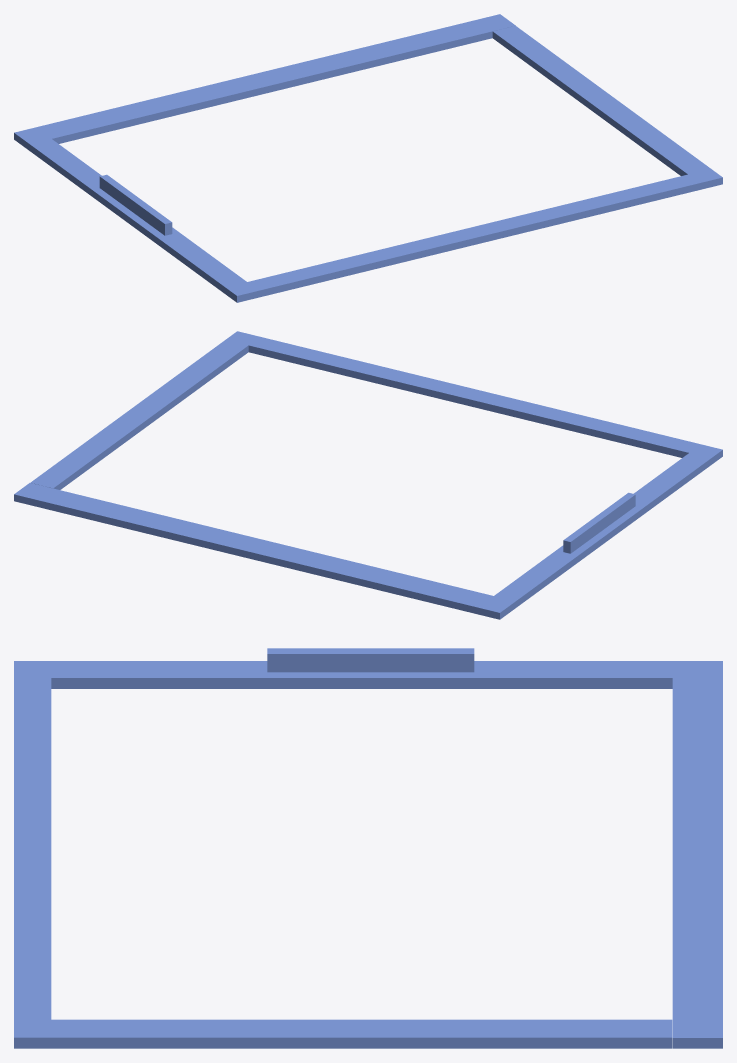
Rendered from SliderFreezerDoor.fbx.
The picture shows the model from 3 angles, top to bottom: view 1: azimuth 30°, elevation 25°; view 2: azimuth 150°, elevation 25°; view 3: azimuth 270°, elevation 25°; orthographic projection. The views are drawn at different scales.
Parts seen in each view (by area): view 1: Cube.001; view 2: Cube.001; view 3: Cube.001.
Part boxes in pixels (bbox=[...]): Cube.001: bbox=[14, 14, 722, 302]; Cube.001: bbox=[14, 331, 722, 619]; Cube.001: bbox=[14, 648, 722, 1048].
Bounding box in the file's own units: 284 × 10.37 × 225.
